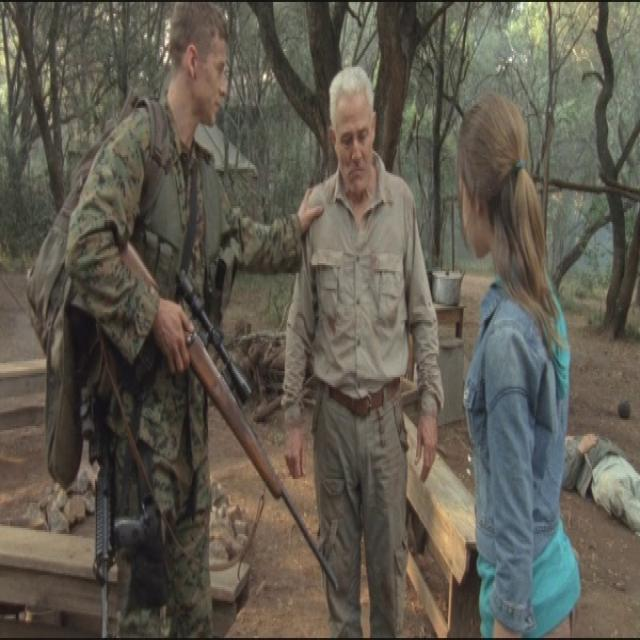rifle: (112, 246, 344, 606)
